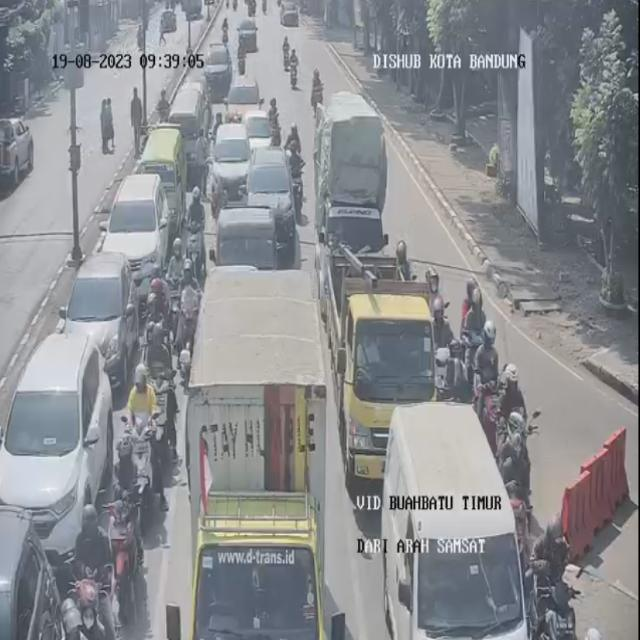cars: (383, 407, 540, 640), (0, 330, 112, 581), (63, 253, 135, 380), (111, 171, 174, 291), (212, 198, 283, 273), (247, 144, 296, 248), (140, 129, 186, 234), (165, 94, 207, 178), (210, 120, 252, 202), (229, 74, 264, 126), (243, 106, 275, 156), (204, 43, 232, 98), (238, 16, 261, 52), (278, 0, 303, 30)
motorcycle: (141, 318, 180, 452), (499, 361, 535, 498), (76, 499, 118, 616), (115, 428, 148, 550), (62, 574, 112, 640), (167, 236, 198, 336), (471, 320, 499, 420), (142, 276, 172, 364), (464, 279, 489, 374), (182, 181, 210, 265), (284, 122, 304, 216), (434, 306, 456, 379), (427, 269, 447, 326), (393, 235, 413, 282), (309, 66, 325, 123), (284, 37, 298, 91), (268, 92, 282, 144)
truck: (191, 390, 327, 640), (346, 286, 445, 472), (319, 93, 392, 303)
